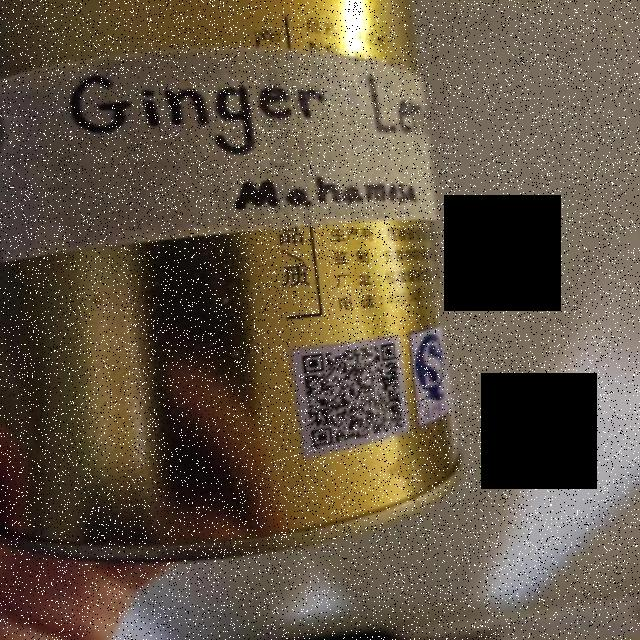QR_CODE: (286, 325, 415, 454)
